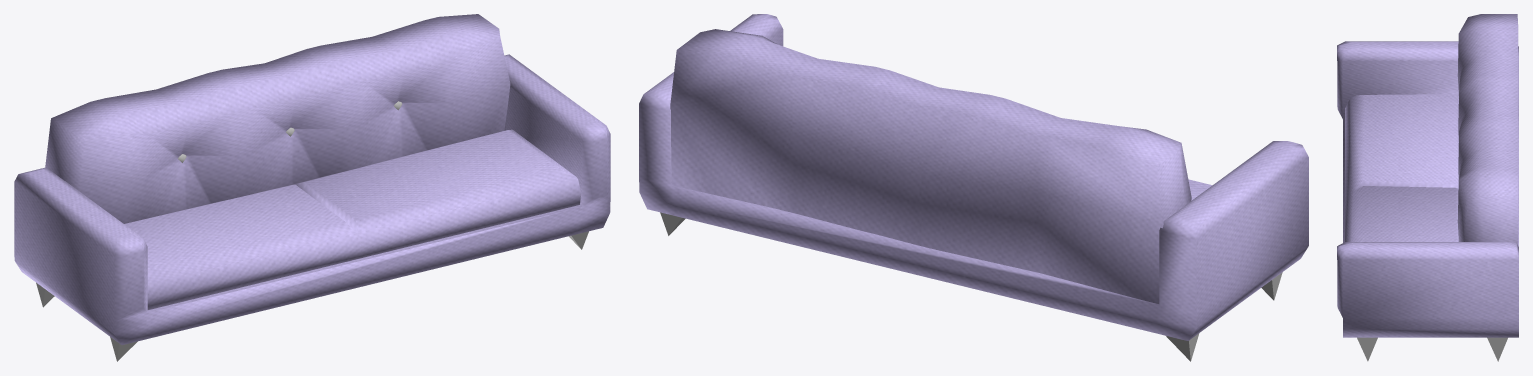
Rendered from Sofa_A_3.FBX.
3 renders of one model, left to right at view 1: azimuth 30°, elevation 25°; view 2: azimuth 150°, elevation 25°; view 3: azimuth 270°, elevation 25°, orthographic. The views are drawn at different scales.
Parts seen in each view (by area): view 1: Sofa; view 2: Sofa; view 3: Sofa.
Part boxes in pixels (bbox=[...]): Sofa: bbox=[14, 14, 610, 361]; Sofa: bbox=[639, 14, 1308, 361]; Sofa: bbox=[1337, 14, 1518, 361].
Size of the model in its own units: 468 by 168 by 169.
